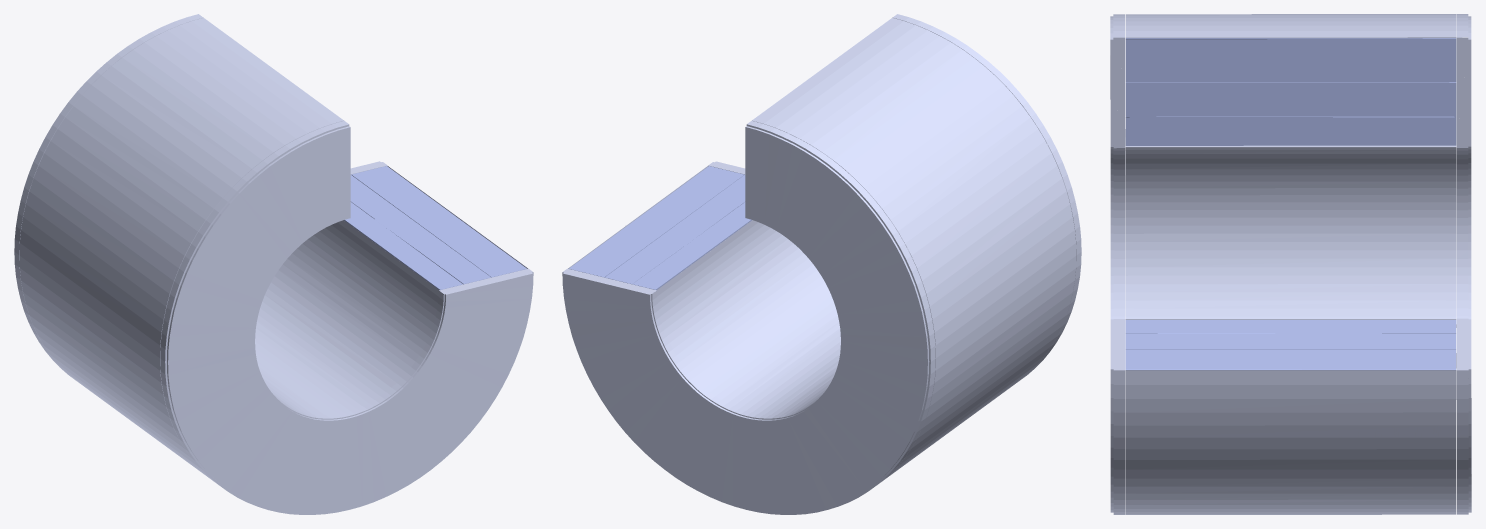
Rendered from TRT-BAR-cut3-transformed.glb.
3 renders of one model, left to right at view 1: azimuth 30°, elevation 25°; view 2: azimuth 150°, elevation 25°; view 3: azimuth 270°, elevation 25°, orthographic. The views are drawn at different scales.
Visible parts, largest first — view 1: null; view 2: null; view 3: null.
Boxes of the visible parts, bbox=[...] form: null: bbox=[14, 14, 533, 514]; null: bbox=[562, 14, 1081, 514]; null: bbox=[1110, 14, 1471, 514].
Bounding box in the file's own units: 2.16 × 2.16 × 1.56.
